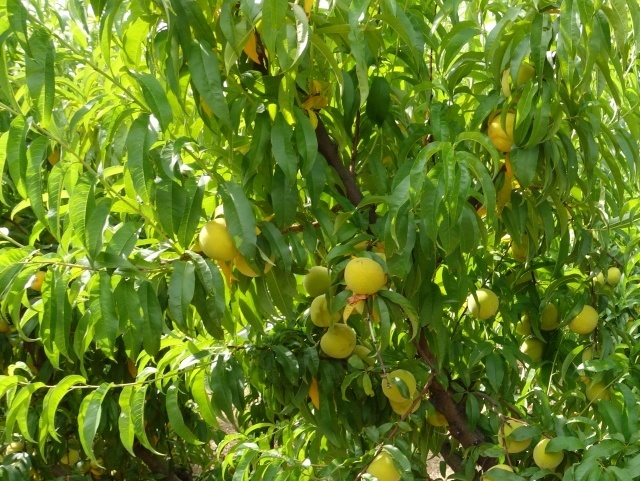peach: (194, 215, 241, 266), (339, 255, 387, 298), (225, 243, 279, 280), (485, 108, 524, 155), (360, 442, 407, 481), (317, 322, 359, 363), (491, 415, 535, 454), (304, 293, 349, 331), (500, 55, 537, 101), (528, 435, 568, 473), (300, 263, 339, 301), (381, 364, 419, 403), (464, 287, 503, 324), (565, 299, 600, 338), (387, 388, 424, 421), (580, 377, 611, 410), (531, 300, 562, 332), (516, 335, 548, 365), (422, 405, 451, 431), (602, 264, 624, 288)
